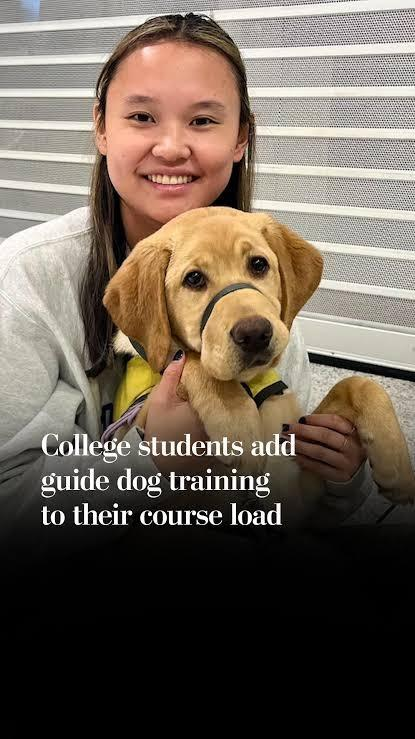non-dog: (0, 10, 384, 527)
puppy-dog: (95, 207, 414, 531)
